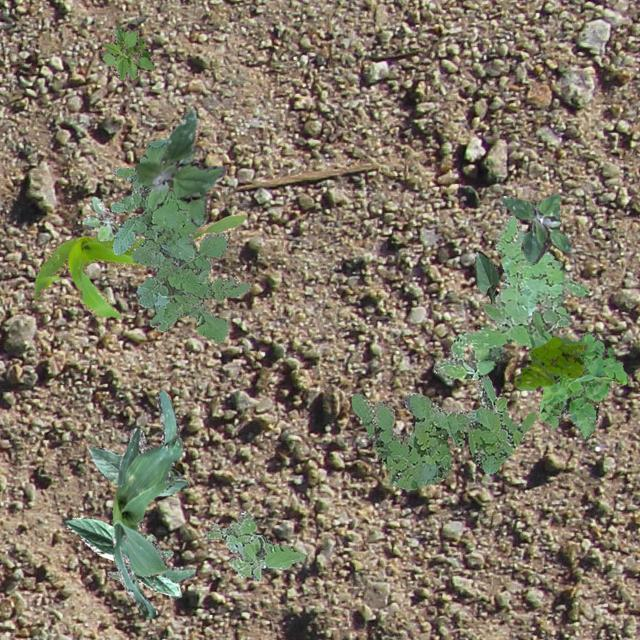crop: (34, 210, 245, 318), (110, 388, 194, 618), (61, 516, 180, 598), (88, 444, 188, 494), (474, 250, 504, 330)
weed: (110, 138, 250, 340), (350, 374, 536, 488), (432, 274, 588, 378), (134, 108, 225, 225), (538, 330, 626, 438), (494, 214, 566, 324), (202, 510, 304, 580), (500, 194, 570, 264), (512, 336, 586, 390), (100, 24, 154, 78), (106, 550, 172, 580), (82, 196, 120, 240)
